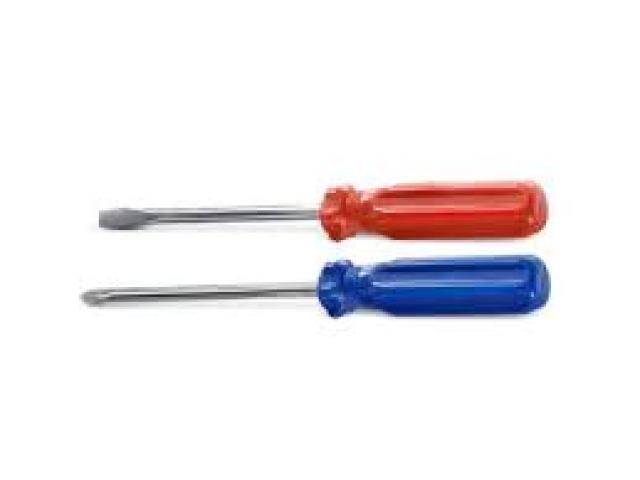Screwdriver: (81, 255, 550, 317), (99, 181, 548, 240)
